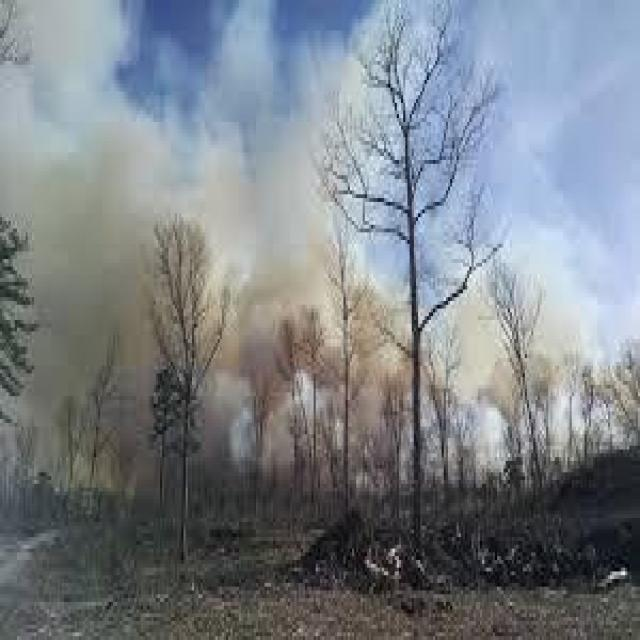smoke: (0, 116, 640, 610)
